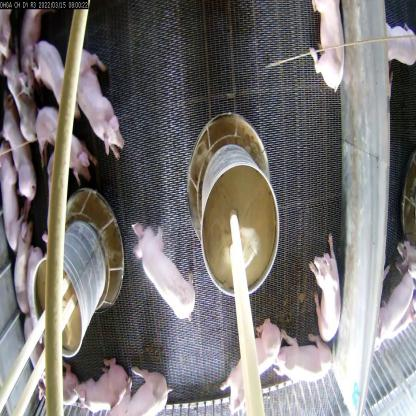Pig: (62, 38, 132, 171), (131, 221, 199, 321), (220, 317, 283, 415), (32, 117, 92, 207), (298, 0, 347, 94), (309, 230, 345, 350), (279, 332, 343, 396), (115, 367, 174, 415), (76, 356, 124, 414), (32, 28, 66, 86)
